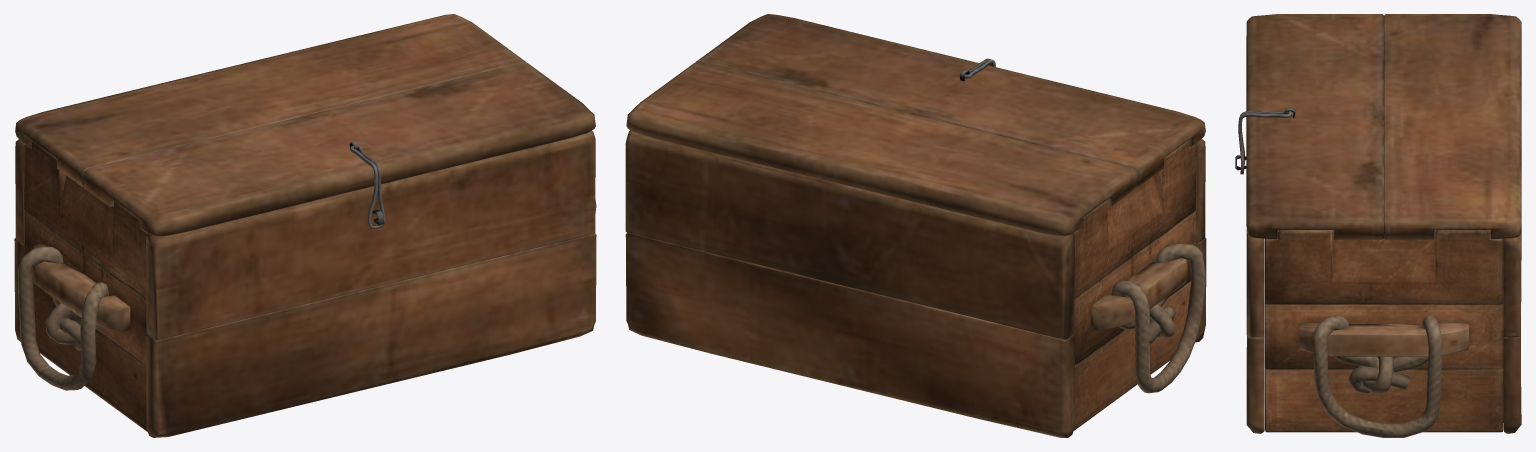
The model's file is wooden_crate_01.glb.
3 renders of one model, left to right at view 1: azimuth 30°, elevation 25°; view 2: azimuth 150°, elevation 25°; view 3: azimuth 270°, elevation 25°, orthographic. The views are drawn at different scales.
Parts seen in each view (by area): view 1: wooden_crate_01, wooden_crate_01_lid, wooden_crate_01_latch; view 2: wooden_crate_01, wooden_crate_01_lid; view 3: wooden_crate_01_lid, wooden_crate_01, wooden_crate_01_latch.
Boxes of the visible parts, x1=… form: wooden_crate_01: x1=14, y1=131, x2=596, y2=437; wooden_crate_01_lid: x1=15, y1=14, x2=595, y2=236; wooden_crate_01_latch: x1=350, y1=145, x2=385, y2=229; wooden_crate_01: x1=625, y1=130, x2=1206, y2=437; wooden_crate_01_lid: x1=626, y1=14, x2=1205, y2=236; wooden_crate_01_lid: x1=1246, y1=14, x2=1521, y2=239; wooden_crate_01: x1=1235, y1=155, x2=1521, y2=437; wooden_crate_01_latch: x1=1238, y1=111, x2=1291, y2=174.
Bounding box in the file's own units: 0.8253 × 0.3495 × 0.4072.
Materials: 1 (1 with a texture image).
